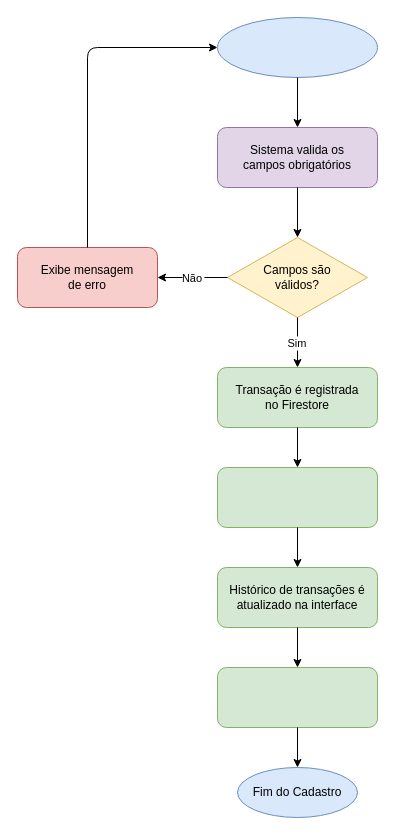
Image size: 395x835. Some labels were removed from this diagram. Here are the shapes that lost their labels. From the top down, the centre of each, then its label:
At pixel 297 47: "Início: Usuário informa os dados da transação".
At pixel 297 497: "Saldo da carteira associada é atualizado".
At pixel 297 697: "Indicadores do dashboard são recalculados".
